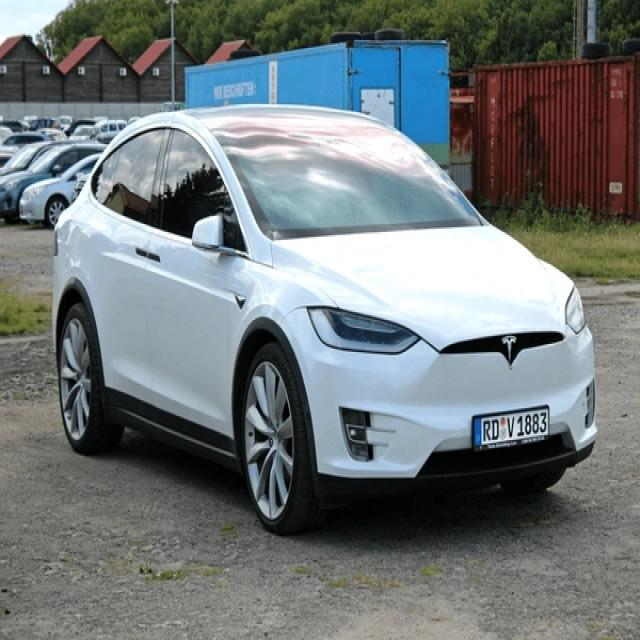tesla: (501, 332, 518, 364)
